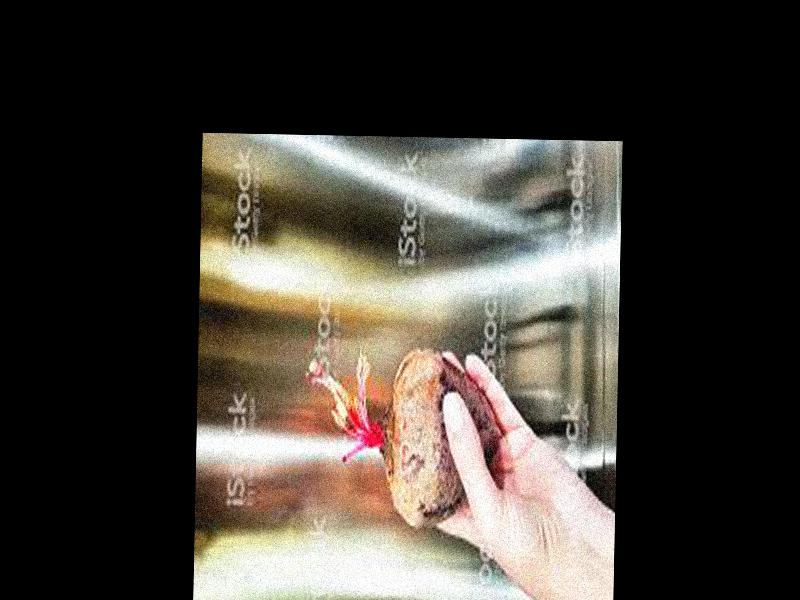Beet: (307, 346, 501, 527)
